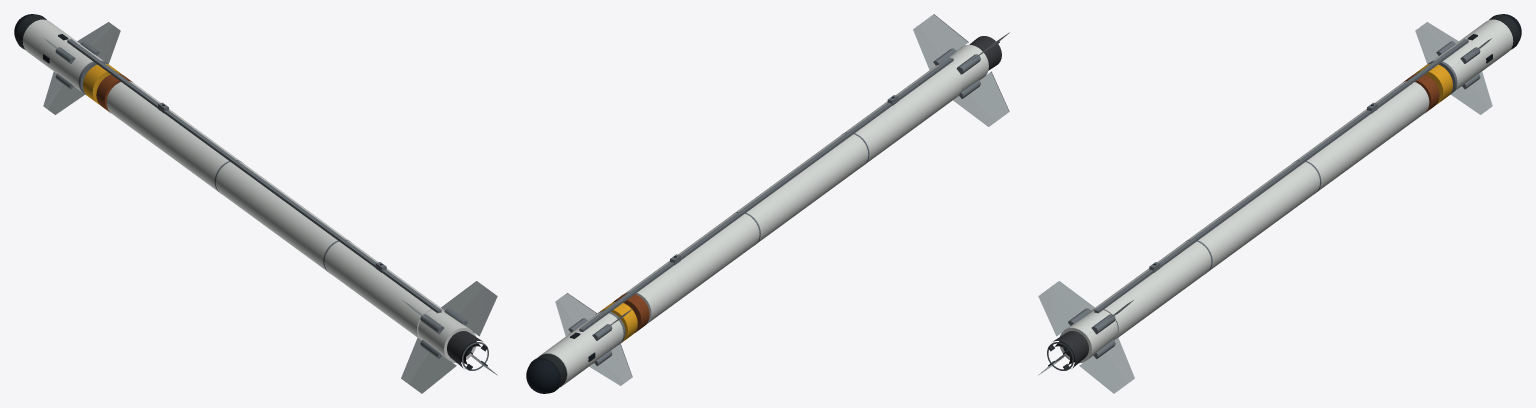
The model's file is missile.glb.
The picture shows the model from 3 angles, left to right: view 1: azimuth 30°, elevation 25°; view 2: azimuth 150°, elevation 25°; view 3: azimuth 330°, elevation 25°; orthographic projection.
Parts seen in each view (by area): view 1: AIM9X_missile-body, AIM9X_missile-fin, AIM9X_missile-steel, AIM9X_missile-band-yellow, AIM9X_missile-nozzle, AIM9X_missile-dark, AIM9X_missile-band-brown; view 2: AIM9X_missile-body, AIM9X_missile-fin, AIM9X_missile-steel, AIM9X_missile-glass, AIM9X_missile-nozzle, AIM9X_missile-band-brown, AIM9X_missile-band-yellow; view 3: AIM9X_missile-body, AIM9X_missile-fin, AIM9X_missile-steel, AIM9X_missile-band-yellow, AIM9X_missile-nozzle, AIM9X_missile-dark, AIM9X_missile-band-brown.
Part boxes in pixels (x1,y1,x2,y2): AIM9X_missile-body: [22, 19, 476, 363]; AIM9X_missile-fin: [43, 22, 497, 393]; AIM9X_missile-steel: [55, 39, 488, 370]; AIM9X_missile-band-yellow: [83, 63, 121, 104]; AIM9X_missile-nozzle: [447, 331, 482, 368]; AIM9X_missile-dark: [16, 14, 487, 370]; AIM9X_missile-band-brown: [96, 73, 132, 112]; AIM9X_missile-body: [538, 44, 988, 387]; AIM9X_missile-fin: [555, 14, 1009, 385]; AIM9X_missile-steel: [568, 48, 980, 366]; AIM9X_missile-glass: [526, 332, 595, 393]; AIM9X_missile-nozzle: [969, 36, 1001, 70]; AIM9X_missile-band-brown: [612, 293, 649, 332]; AIM9X_missile-band-yellow: [600, 302, 637, 342]; AIM9X_missile-body: [1059, 19, 1513, 363]; AIM9X_missile-fin: [1038, 22, 1492, 393]; AIM9X_missile-steel: [1047, 39, 1480, 370]; AIM9X_missile-band-yellow: [1414, 63, 1452, 104]; AIM9X_missile-nozzle: [1053, 331, 1088, 368]; AIM9X_missile-dark: [1048, 14, 1519, 370]; AIM9X_missile-band-brown: [1403, 73, 1439, 112].
Bounding box in the file's own units: 0.2961 × 0.2961 × 3.04.
